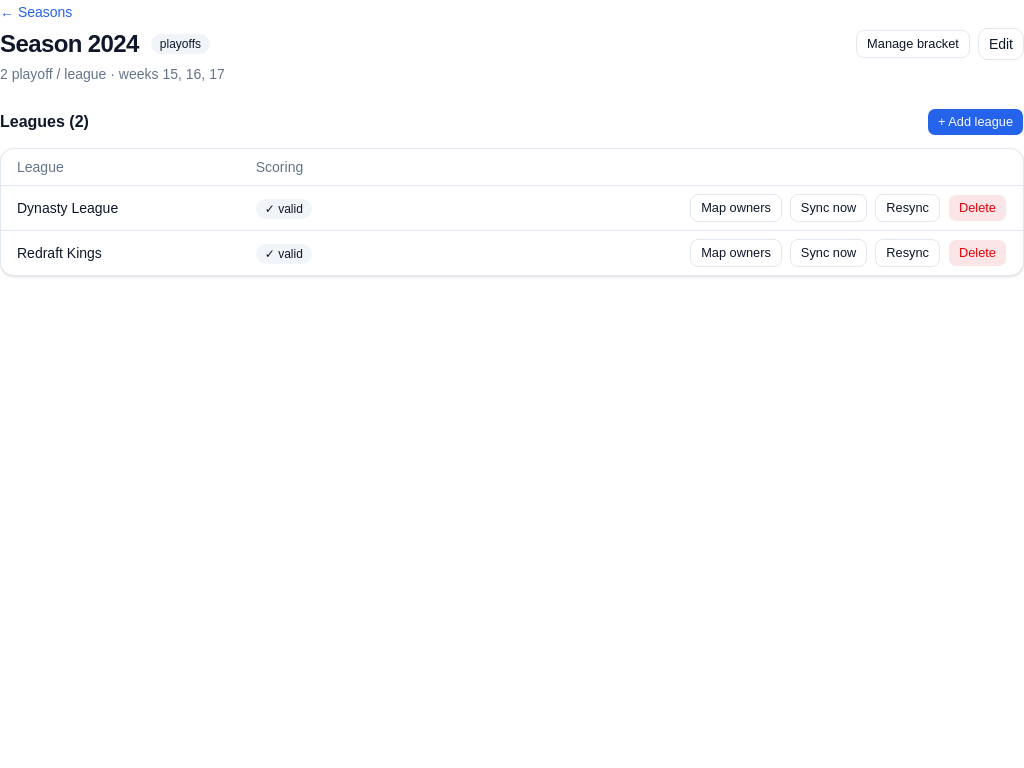
Test: Delete failure keeps the dialog open and shows the error
Step 1. Click the button "Delete" in the row of "Dynasty League" → point(978, 208), box [948,194,1007,222]
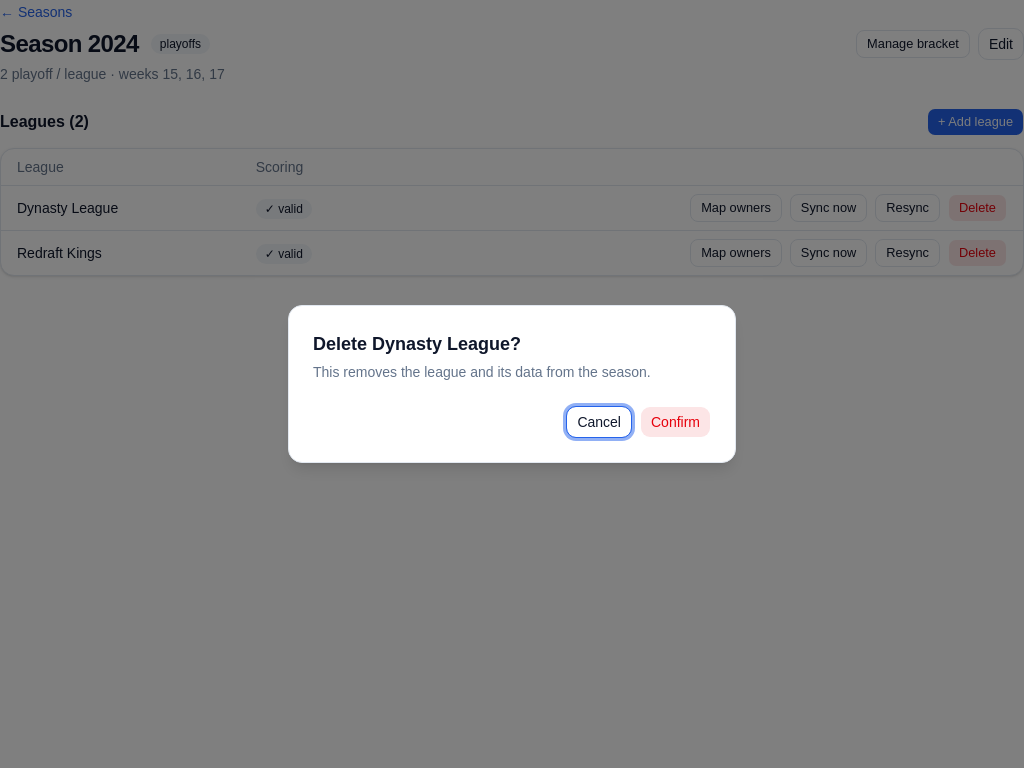
Step 2. Click the button "Confirm" → point(676, 422), box [640,406,711,438]
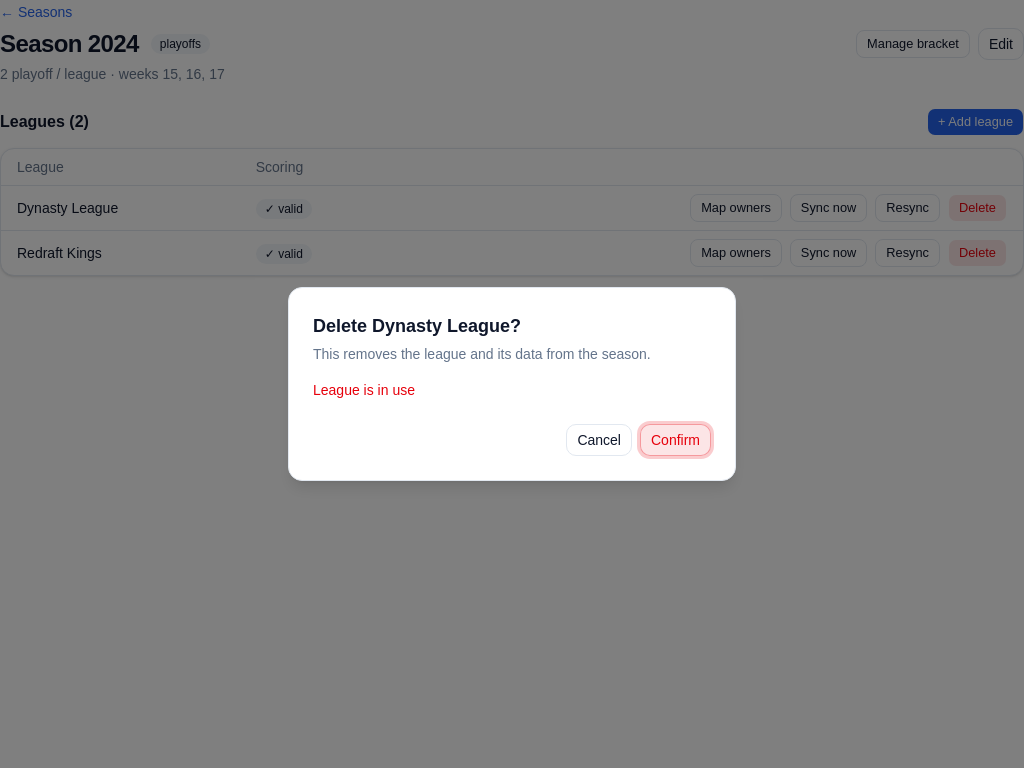
expect the button "Confirm" is shown: met, box [640,424,711,456]
expect the text "League is in use" is shown: met, box [313,382,415,398]
